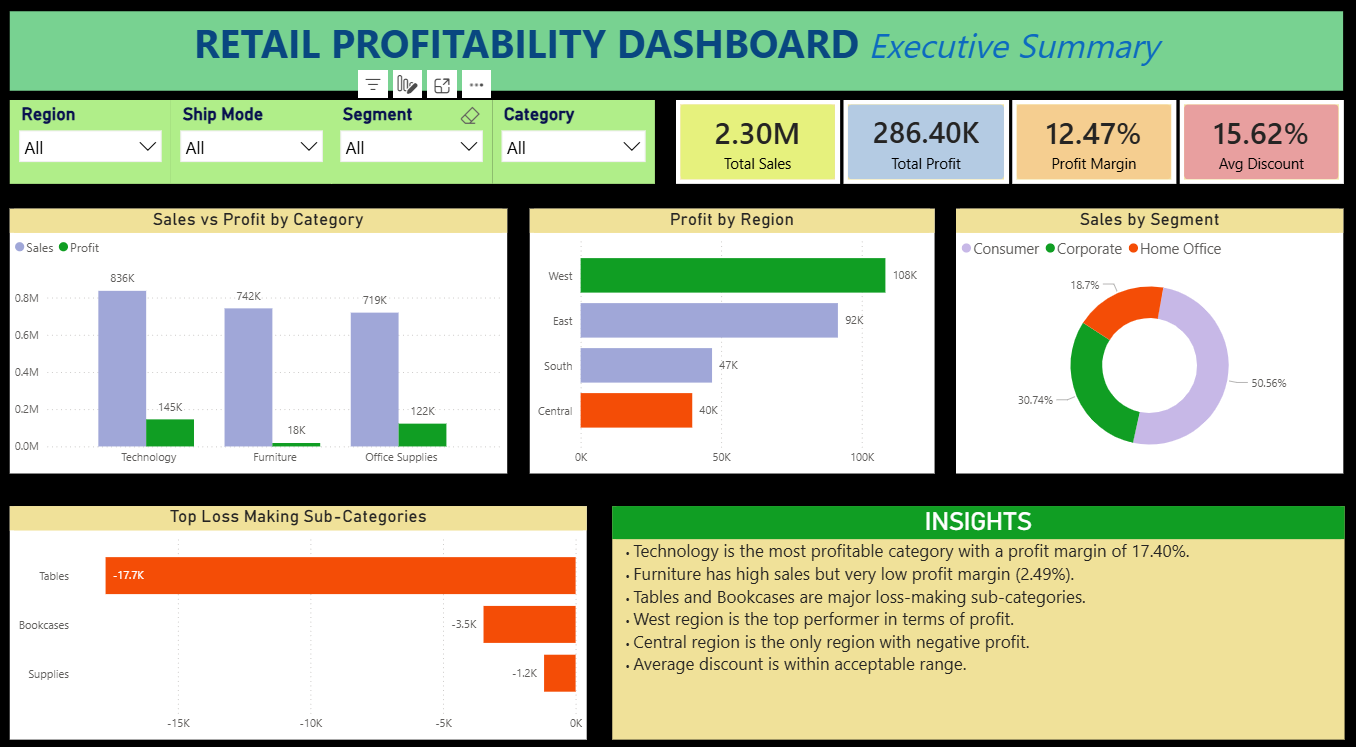

Layout of this report page (visuals, bound fields, positions):
{"tool":"powerbi","page":{"name":"Page 1","canvas":[1500,850],"ordinal":0},"visuals":[{"type":"textbox","box":[9.4,17.2,1462.5,87.5],"z":0},{"type":"cardVisual","fields":{"Data":["retail_data.Total Sales"]},"box":[740.6,115.6,179.7,92.2],"z":1},{"type":"cardVisual","fields":{"Data":["retail_data.Avg Discount"]},"box":[1292.2,115.6,179.7,92.2],"z":2},{"type":"cardVisual","fields":{"Data":["retail_data.Profit Margin"]},"box":[1108.9,115.6,179.7,92.2],"z":3},{"type":"cardVisual","fields":{"Data":["retail_data.Total Profit"]},"box":[924,115.6,181.2,92.2],"z":4},{"type":"clusteredColumnChart","title":"Sales vs Profit by Category","fields":{"Category":["retail_data.Category"],"Y":["retail_data.Total Sales","retail_data.Total Profit"]},"box":[9.4,234.4,545.3,290.6],"z":5},{"type":"clusteredBarChart","title":"Profit by Region","fields":{"Category":["retail_data.Region"],"Y":["retail_data.Total Profit"]},"box":[579.7,234.4,443.8,290.6],"z":6},{"type":"clusteredBarChart","title":"Top Loss Making Sub-Categories","fields":{"Category":["retail_data.Sub-Category"],"Y":["retail_data.Total Profit"]},"box":[9.4,560.9,632.8,256.2],"z":7},{"type":"donutChart","title":"Sales by Segment","fields":{"Category":["retail_data.Segment"],"Y":["retail_data.Total Sales"]},"box":[1046.9,234.4,425,290.6],"z":9},{"type":"slicer","fields":{"Values":["retail_data.Region"]},"box":[9.4,115.6,176.6,92.2],"z":10},{"type":"slicer","fields":{"Values":["retail_data.Ship Mode"]},"box":[185.9,115.6,176.6,92.2],"z":11},{"type":"slicer","fields":{"Values":["retail_data.Segment"]},"box":[362.5,115.6,176.6,92.2],"z":12},{"type":"slicer","fields":{"Values":["retail_data.Category"]},"box":[539.1,115.6,178.1,92.2],"z":13},{"type":"textbox","title":"INSIGHTS","box":[670.3,560.9,803.1,256.2],"z":15}]}

Visuals, with their boxes in screenshot pixels (x1, y1, x2, y2), scaled from the page's 1500x850 canvas onto the 1356x747 screenshot:
textbox: [8,15,1331,92]
cardVisual - retail_data.Total Sales: [670,102,832,183]
cardVisual - retail_data.Avg Discount: [1168,102,1331,183]
cardVisual - retail_data.Profit Margin: [1002,102,1165,183]
cardVisual - retail_data.Total Profit: [835,102,999,183]
"Sales vs Profit by Category" clusteredColumnChart: [8,206,501,461]
"Profit by Region" clusteredBarChart: [524,206,925,461]
"Top Loss Making Sub-Categories" clusteredBarChart: [8,493,581,718]
"Sales by Segment" donutChart: [946,206,1331,461]
slicer - retail_data.Region: [8,102,168,183]
slicer - retail_data.Ship Mode: [168,102,328,183]
slicer - retail_data.Segment: [328,102,487,183]
slicer - retail_data.Category: [487,102,648,183]
"INSIGHTS" textbox: [606,493,1332,718]
